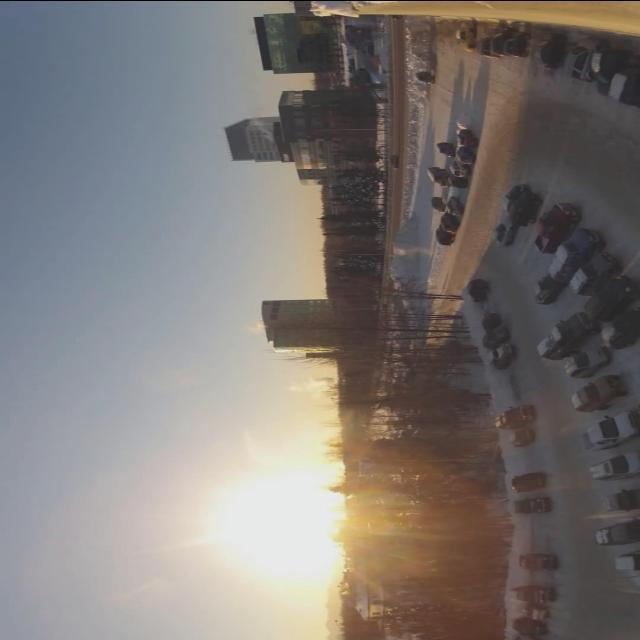Fire: (250, 114, 272, 140)
